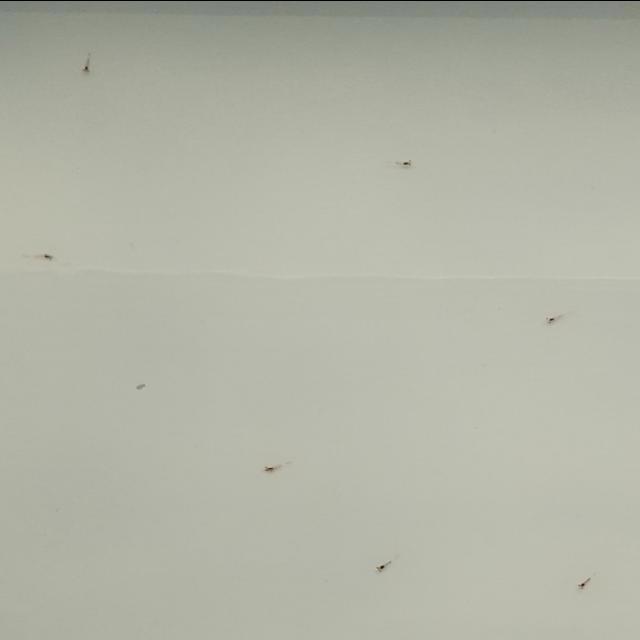shrimp-seed: (78, 58, 94, 72), (398, 156, 413, 169), (544, 314, 558, 326), (376, 561, 390, 573), (42, 250, 58, 260), (576, 578, 588, 590), (262, 464, 278, 472)
